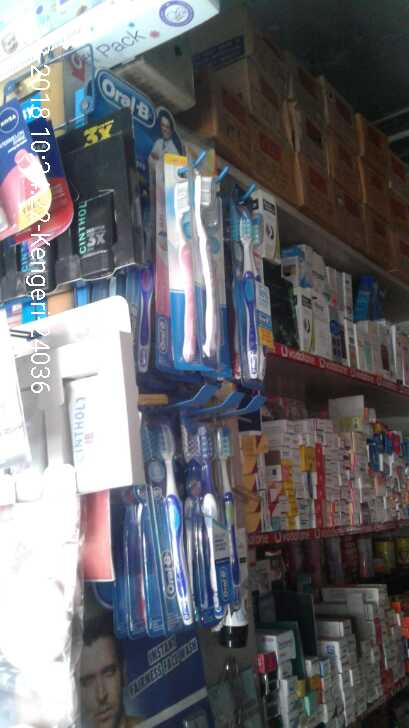pharmacy: (161, 162, 269, 382), (141, 419, 238, 622)
